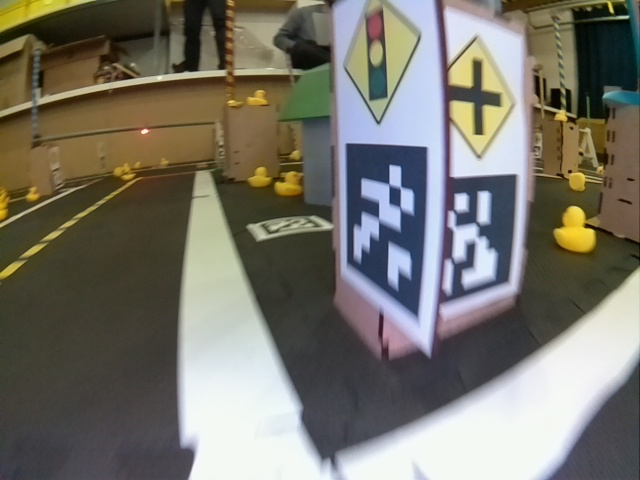Duckie: (553, 208, 593, 250), (274, 171, 301, 191), (249, 167, 271, 187), (570, 172, 586, 190), (249, 90, 267, 105), (122, 170, 132, 175)
Intersection sign: (449, 38, 514, 159)
QR code: (344, 144, 428, 318), (439, 173, 516, 304)
Signal sign: (345, 2, 420, 121)
